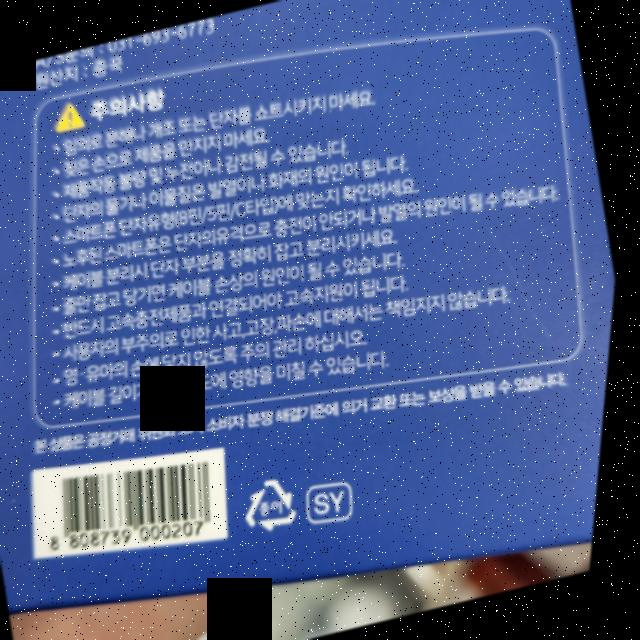Paper: (240, 468, 316, 540)
